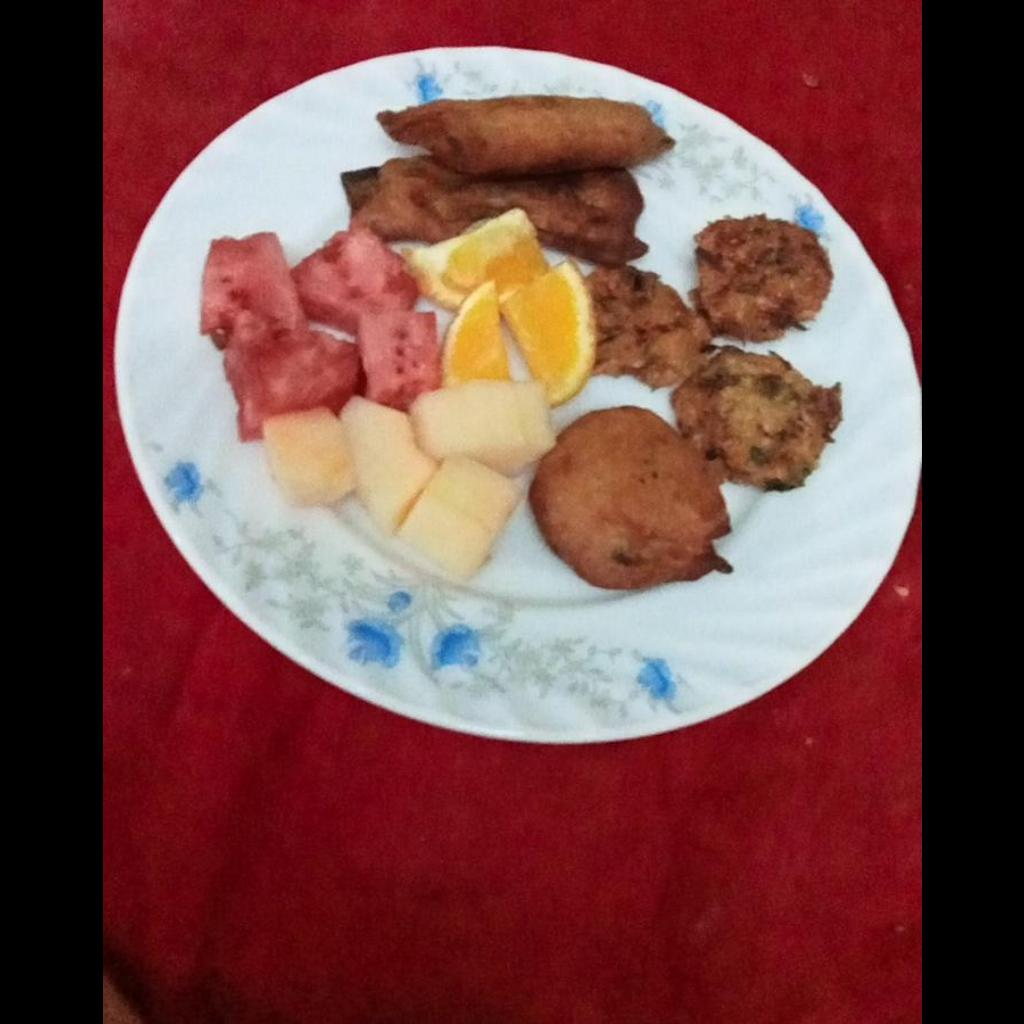beguni: (344, 94, 675, 267)
chop-alu: (532, 407, 726, 593)
orange: (414, 216, 589, 396)
peyaju: (592, 218, 845, 482)
watermelon: (198, 228, 548, 574)
